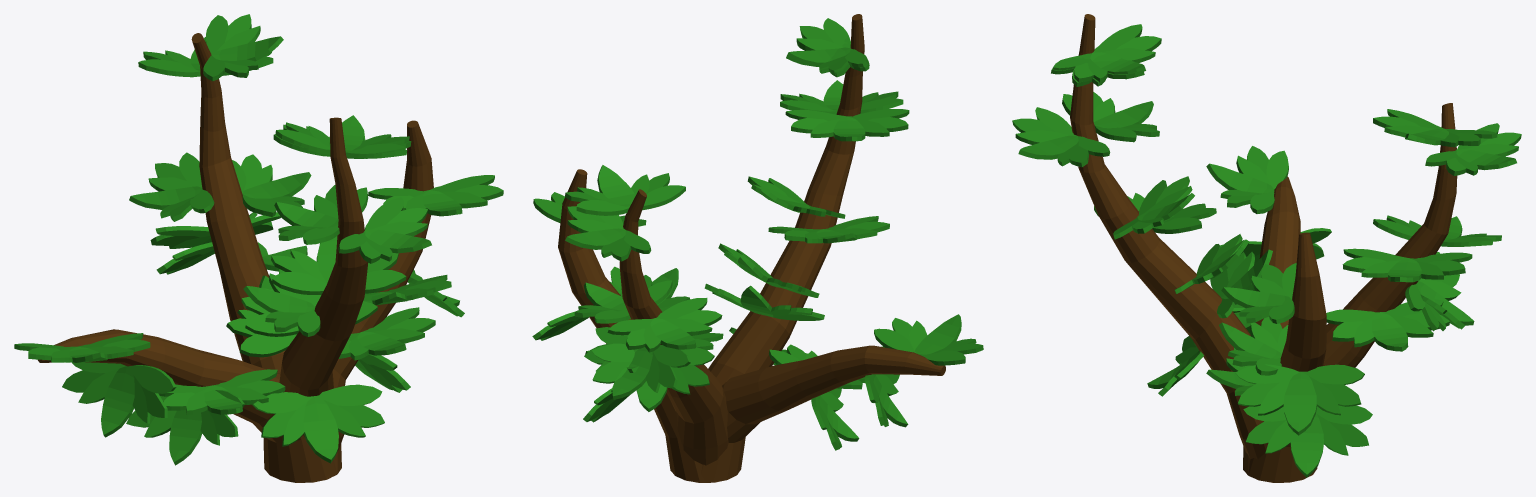
File: Arbusto1Hoja3.fbx
3 views of the same model, side by side, from view 1: azimuth 30°, elevation 25°; view 2: azimuth 150°, elevation 25°; view 3: azimuth 270°, elevation 25° (orthographic). The views are drawn at different scales.
Parts seen in each view (by area): view 1: RamasArbusto1Hoja3; view 2: RamasArbusto1Hoja3; view 3: RamasArbusto1Hoja3.
Boxes of the visible parts, x1,y1,x2,y2 form: RamasArbusto1Hoja3: (14, 14, 503, 482); RamasArbusto1Hoja3: (532, 14, 983, 482); RamasArbusto1Hoja3: (1012, 14, 1521, 482).
Bounding box in the file's own units: 142 × 124 × 136.
